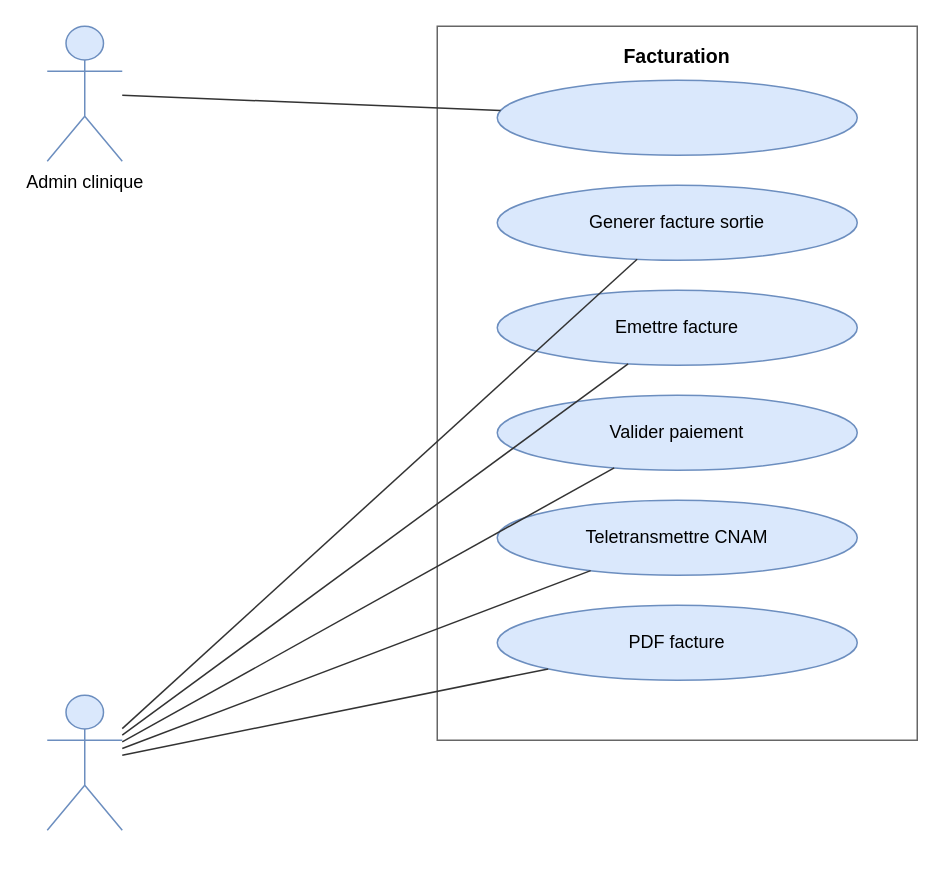
Image size: 944x888. Some labels were removed from this diagram. The centre of each missing label's shape, as x and y in pixels:
Catalogue prestations: [676,117]
Secretaire: [84,762]
